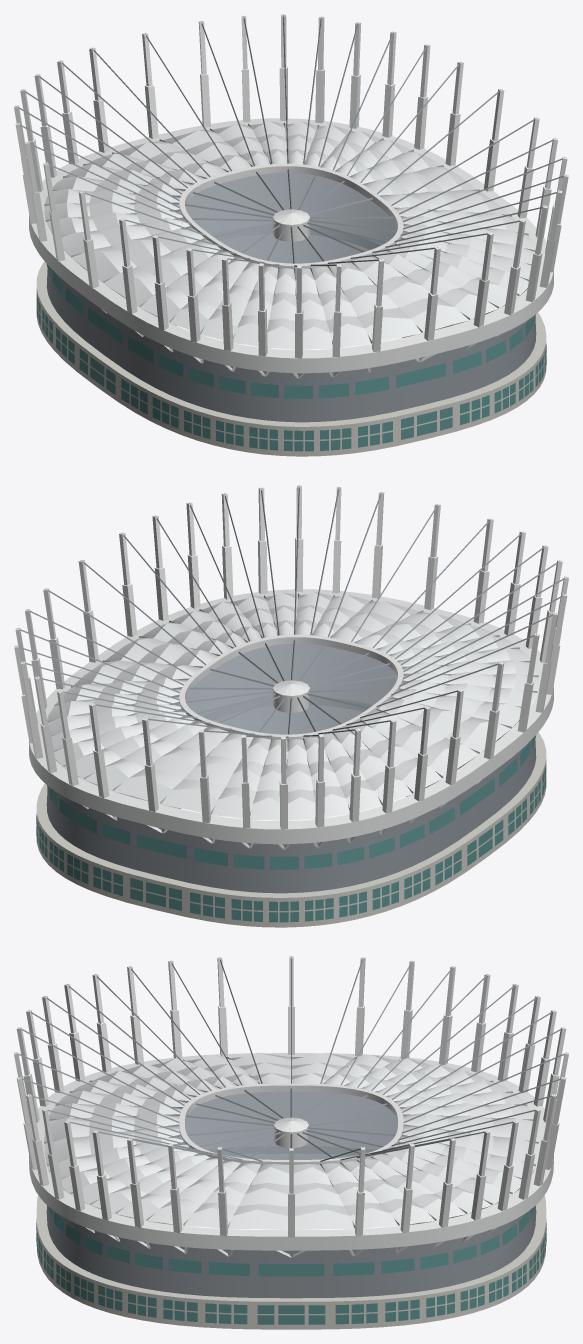
File: van-bc-place.glb
The picture shows the model from 3 angles, top to bottom: view 1: azimuth 30°, elevation 25°; view 2: azimuth 150°, elevation 25°; view 3: azimuth 270°, elevation 25°; orthographic projection. The views are drawn at different scales.
Parts seen in each view (by area): view 1: BC Place; view 2: BC Place; view 3: BC Place.
Boxes of the visible parts, x1,y1,x2,y2 form: BC Place: (14,14,568,456); BC Place: (14,485,568,927); BC Place: (14,956,568,1329).
Size of the model in its own units: 209 by 94.32 by 252.
